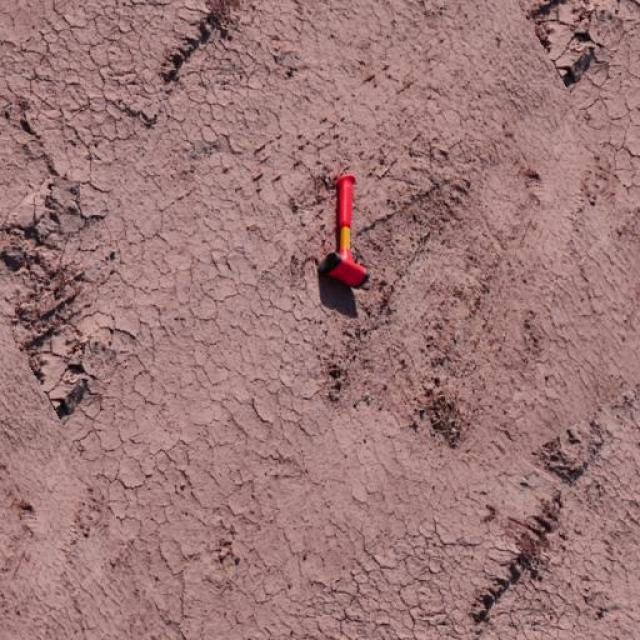mallet: (316, 172, 368, 288)
